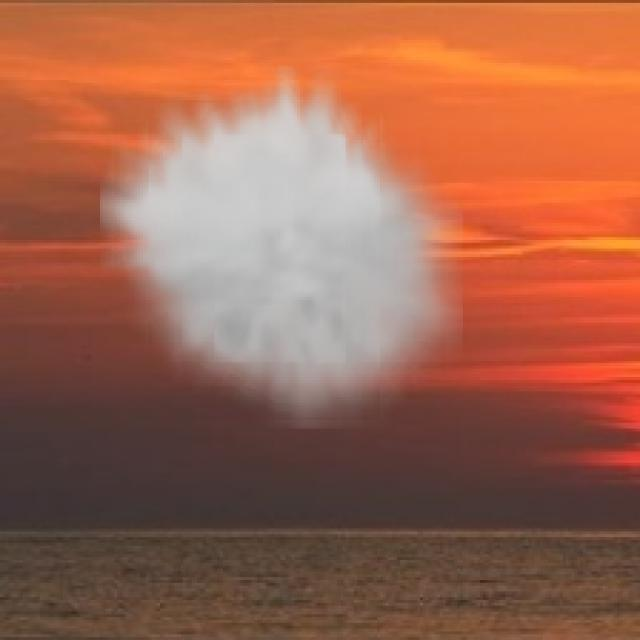Smoke: (100, 66, 463, 428)
